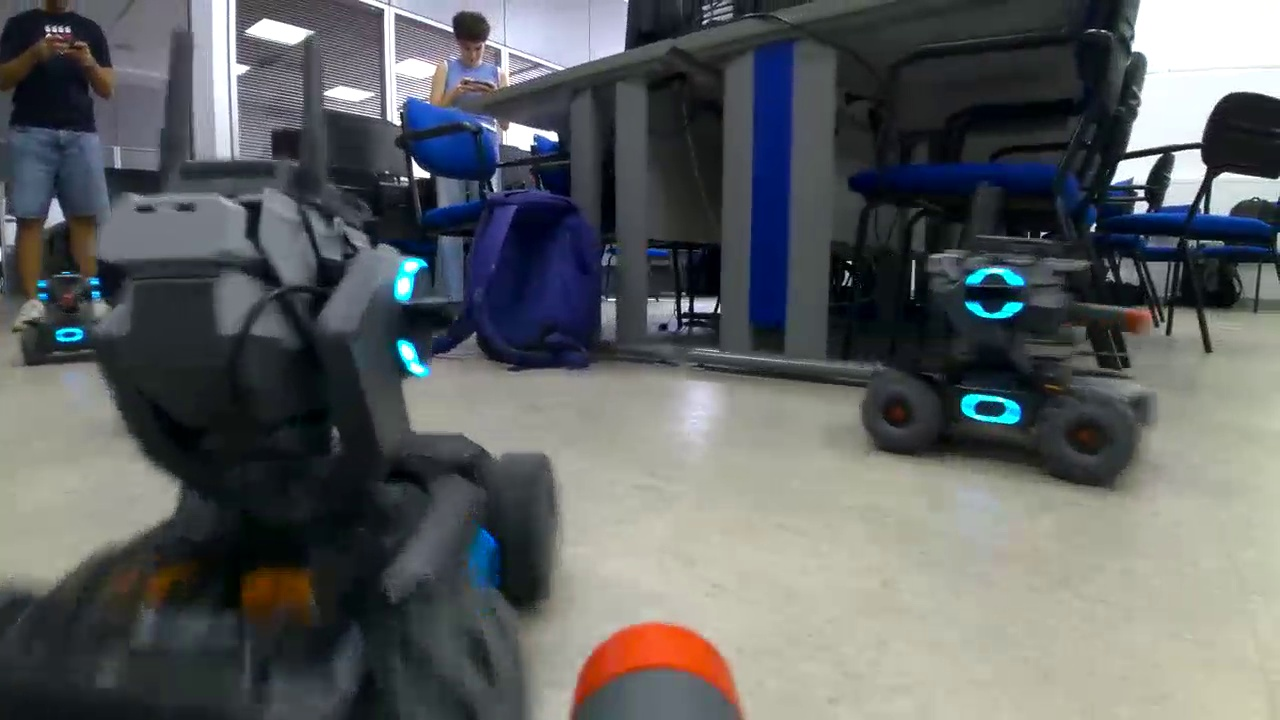robot: (1, 188, 560, 720), (852, 230, 1172, 500), (10, 266, 134, 371)
